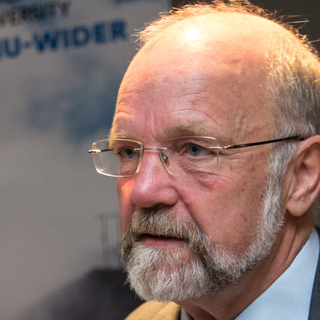eye: (177, 140, 219, 164), (114, 141, 140, 164)
